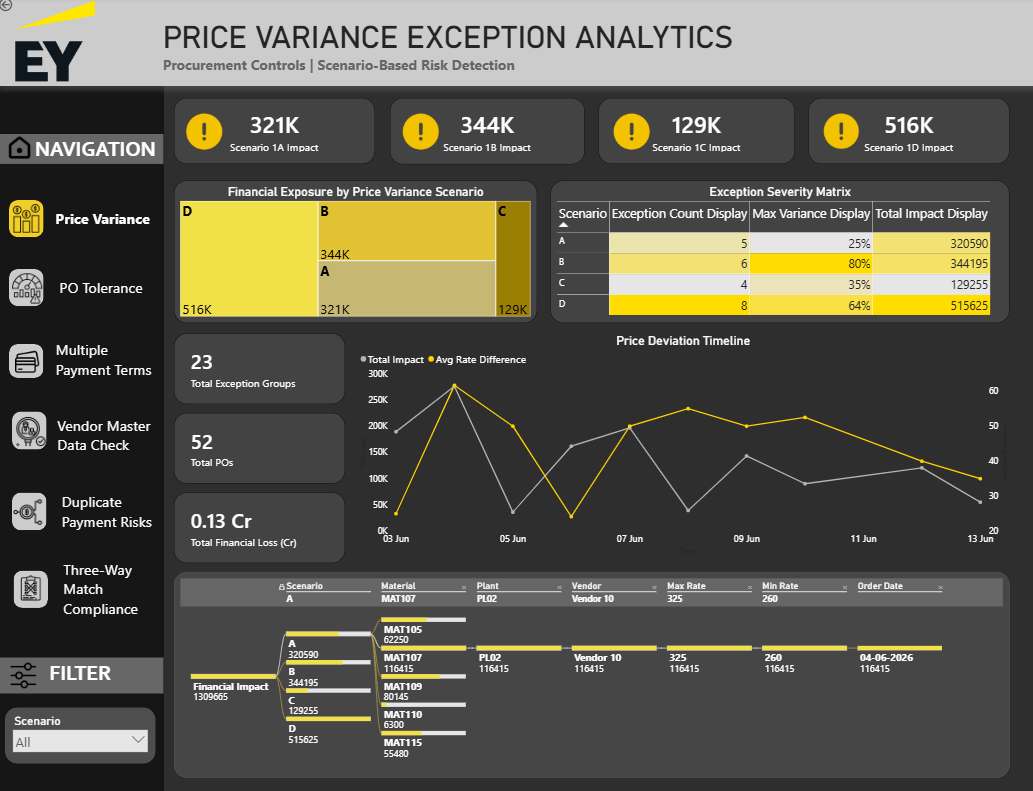

What the dashboard file says about the page in this screenshot:
{"tool":"powerbi","page":{"name":"Purchase Price Variance Analysis  ","canvas":[2400,1850],"ordinal":0},"visuals":[{"type":"shape","box":[0,163.3,386.7,1686.7],"z":0},{"type":"shape","box":[0,0,2400,208.4],"z":1000},{"type":"cardVisual","fields":{"Data":["measures - scenario 1.Scenario 1A Impact"]},"box":[409.8,236.2,465.4,152.8],"z":2000},{"type":"cardVisual","fields":{"Data":["Table.Total Financial Impact"]},"box":[409.8,1149.6,395.9,163.2],"z":3000},{"type":"cardVisual","fields":{"Data":["measures - scenario 1.Scenario 1B Impact"]},"box":[910,236.2,450.4,153.3],"z":4000,"group":"g7"},{"type":"treemap","title":"Financial Exposure by Price Variance Scenario","fields":{"Group":["treemap table.Scenario Nsme "],"Values":["Sum(treemap table.Financial Impact)"]},"box":[409.8,427.2,840.5,330],"z":4000},{"type":"cardVisual","fields":{"Data":["measures - scenario 1.Scenario 1C Impact"]},"box":[1392.7,236.2,455,152.8],"z":5000,"group":"g8"},{"type":"pivotTable","title":"Exception Severity Matrix","fields":{"Values":["select","select1","Heatmap - scenario 1.Max Variance Display","Heatmap - scenario 1.Exception Count Display","select2","Heatmap - scenario 1.Total Impact Display"],"Rows":["Heatmap - scenario 1.Scenario"]},"box":[1281.6,427.2,1062.8,330],"z":5000},{"type":"cardVisual","fields":{"Data":["measures - scenario 1.Scenario 1D Impact"]},"box":[1879.1,236.2,465.4,152.8],"z":6000,"group":"g9"},{"type":"decompositionTreeVisual","title":"Exception Drilldown","fields":{"Analyze":["Sum(Decomposition tree- scenario 1.Financial Impact)"],"ExplainBy":["Decomposition tree- scenario 1.Scenario","Decomposition tree- scenario 1.Material","Decomposition tree- scenario 1.Plant","Decomposition tree- scenario 1.Vendor","Decomposition tree- scenario 1.Max Rate","Decomposition tree- scenario 1.Min Rate","Decomposition tree- scenario 1.Order Date"]},"box":[409.8,1333.7,1934.5,475.8],"z":6000},{"type":"cardVisual","fields":{"Data":["measure - scenario 1.Total POs"]},"box":[409.8,965.5,395.9,163.2],"z":7000},{"type":"lineChart","title":"Price Deviation Timeline","fields":{"Y":["Decomposition tree- scenario 1.Total Impact"],"Y2":["Decomposition tree- scenario 1.Avg Rate Difference"],"Category":["Decomposition tree- scenario 1.Order Date.Variation.Date Hierarchy.Year","Decomposition tree- scenario 1.Order Date.Variation.Date Hierarchy.Month","Decomposition tree- scenario 1.Order Date.Variation.Date Hierarchy.Day"]},"box":[833.6,781.5,1510.8,517.5],"z":8000},{"type":"textbox","box":[380,50,1913.3,186.7],"z":9000},{"type":"image","box":[410,263.3,140,100],"z":10000},{"type":"cardVisual","fields":{"Data":["measure - scenario 1.Total Exception Groups"]},"box":[409.8,781.5,395.9,163.2],"z":11000},{"type":"image","box":[17.4,10.4,232.7,187.6],"z":12000},{"type":"textbox","box":[0,319.5,385.5,69.5],"z":13000},{"type":"image","box":[910,262.9,143.3,100],"z":14000,"group":"g7"},{"type":"image","box":[13.9,312.6,76.4,76.4],"z":14000},{"type":"image","box":[1396.9,263.5,146.7,100],"z":15000,"group":"g8"},{"type":"group","id":"g1","title":"Group 3","box":[33.3,953.3,336.7,130],"z":15000},{"type":"image","box":[1879,265.2,152,97.8],"z":16000,"group":"g9"},{"type":"actionButton","title":"sce","box":[114.7,450,260,126],"z":16000,"group":"g4"},{"type":"group","id":"g2","title":"Group 4","box":[26.7,756.7,340,166.7],"z":16000},{"type":"shape","box":[26.7,470,80,86],"z":17000,"group":"g4"},{"type":"group","id":"g3","title":"Group 5","box":[26.7,610,343.3,126.7],"z":17000},{"type":"shape","box":[37.3,1328,79.9,86.8],"z":17000,"group":"g6"},{"type":"image","box":[34.7,460,66,106],"z":18000,"group":"g4"},{"type":"actionButton","title":"sce","box":[110.7,610,260,126],"z":18000,"group":"g3"},{"type":"slicer","fields":{"Values":["Scen 1 - Decomposition tree- scenario 1.Scenario"]},"box":[17.4,1646.3,350.8,132],"z":18000},{"type":"group","id":"g4","title":"Group 6","box":[26.7,450,350,126.7],"z":19000},{"type":"actionButton","title":"sce","box":[132.1,756.7,234.6,166.7],"z":19000,"group":"g2"},{"type":"actionButton","title":"sce","box":[133.6,953.3,236,128],"z":20000,"group":"g1"},{"type":"group","id":"g5","title":"Group 1","box":[33.3,1130,366.7,130],"z":20000},{"type":"actionButton","title":"sce","box":[143.2,1130,257,128.5],"z":21000,"group":"g5"},{"type":"group","id":"g6","title":"Group 2","box":[33.3,1270,370,200],"z":21000},{"type":"actionButton","title":"sce","box":[147.4,1270,255.9,200],"z":22000,"group":"g6"},{"type":"textbox","box":[0,1531.7,385.5,83.4],"z":22000},{"type":"image","box":[31.3,1531.7,59,83.4],"z":23000},{"type":"actionButton","box":[0,0,100,40],"z":24000},{"type":"group","id":"g7","title":"Group 7","box":[910,236.2,451.5,152.8],"z":25000},{"type":"shape","box":[26.7,630,80,86],"z":25000,"group":"g3"},{"type":"group","id":"g8","title":"Group 8","box":[1392.7,236.2,455,152.8],"z":26000},{"type":"shape","box":[26.7,806.2,79.5,78.8],"z":26000,"group":"g2"},{"type":"group","id":"g9","title":"Group 9","box":[1879,236.2,465.4,152.8],"z":27000},{"type":"shape","box":[33.3,965,80,88],"z":27000,"group":"g1"},{"type":"shape","box":[33.3,1150,80,87.5],"z":28000,"group":"g5"},{"type":"image","box":[32.2,629.5,70,90],"z":30000,"group":"g3"},{"type":"image","box":[40.6,771.4,55.7,152],"z":31000,"group":"g2"},{"type":"image","box":[33.3,973,88,72],"z":32000,"group":"g1"},{"type":"image","box":[33.3,1142.5,72.5,105],"z":33000,"group":"g5"},{"type":"image","box":[33.3,1339.8,86.4,60.3],"z":34000,"group":"g6"}]}

Visuals, with their boxes on the page's 2400x1850 design canvas (x1, y1, x2, y2). These are canvas units, not pixel positions in the 1033x791 screenshot, which may show the page scaled, cropped or inside an application window:
shape: <region>0, 163, 387, 1850</region>
shape: <region>0, 0, 2400, 208</region>
cardVisual - measures - scenario 1.Scenario 1A Impact: <region>410, 236, 875, 389</region>
cardVisual - Table.Total Financial Impact: <region>410, 1150, 806, 1313</region>
cardVisual - measures - scenario 1.Scenario 1B Impact: <region>910, 236, 1360, 390</region>
"Financial Exposure by Price Variance Scenario" treemap: <region>410, 427, 1250, 757</region>
cardVisual - measures - scenario 1.Scenario 1C Impact: <region>1393, 236, 1848, 389</region>
"Exception Severity Matrix" pivotTable: <region>1282, 427, 2344, 757</region>
cardVisual - measures - scenario 1.Scenario 1D Impact: <region>1879, 236, 2344, 389</region>
"Exception Drilldown" decompositionTreeVisual: <region>410, 1334, 2344, 1810</region>
cardVisual - measure - scenario 1.Total POs: <region>410, 966, 806, 1129</region>
"Price Deviation Timeline" lineChart: <region>834, 782, 2344, 1299</region>
textbox: <region>380, 50, 2293, 237</region>
image: <region>410, 263, 550, 363</region>
cardVisual - measure - scenario 1.Total Exception Groups: <region>410, 782, 806, 945</region>
image: <region>17, 10, 250, 198</region>
textbox: <region>0, 320, 386, 389</region>
image: <region>910, 263, 1053, 363</region>
image: <region>14, 313, 90, 389</region>
image: <region>1397, 264, 1544, 364</region>
"Group 3" group: <region>33, 953, 370, 1083</region>
image: <region>1879, 265, 2031, 363</region>
"sce" actionButton: <region>115, 450, 375, 576</region>
"Group 4" group: <region>27, 757, 367, 923</region>
shape: <region>27, 470, 107, 556</region>
"Group 5" group: <region>27, 610, 370, 737</region>
shape: <region>37, 1328, 117, 1415</region>
image: <region>35, 460, 101, 566</region>
"sce" actionButton: <region>111, 610, 371, 736</region>
slicer - Scen 1 - Decomposition tree- scenario 1.Scenario: <region>17, 1646, 368, 1778</region>
"Group 6" group: <region>27, 450, 377, 577</region>
"sce" actionButton: <region>132, 757, 367, 923</region>
"sce" actionButton: <region>134, 953, 370, 1081</region>
"Group 1" group: <region>33, 1130, 400, 1260</region>
"sce" actionButton: <region>143, 1130, 400, 1258</region>
"Group 2" group: <region>33, 1270, 403, 1470</region>
"sce" actionButton: <region>147, 1270, 403, 1470</region>
textbox: <region>0, 1532, 386, 1615</region>
image: <region>31, 1532, 90, 1615</region>
actionButton: <region>0, 0, 100, 40</region>
"Group 7" group: <region>910, 236, 1362, 389</region>
shape: <region>27, 630, 107, 716</region>
"Group 8" group: <region>1393, 236, 1848, 389</region>
shape: <region>27, 806, 106, 885</region>
"Group 9" group: <region>1879, 236, 2344, 389</region>
shape: <region>33, 965, 113, 1053</region>
shape: <region>33, 1150, 113, 1238</region>
image: <region>32, 630, 102, 720</region>
image: <region>41, 771, 96, 923</region>
image: <region>33, 973, 121, 1045</region>
image: <region>33, 1142, 106, 1248</region>
image: <region>33, 1340, 120, 1400</region>
